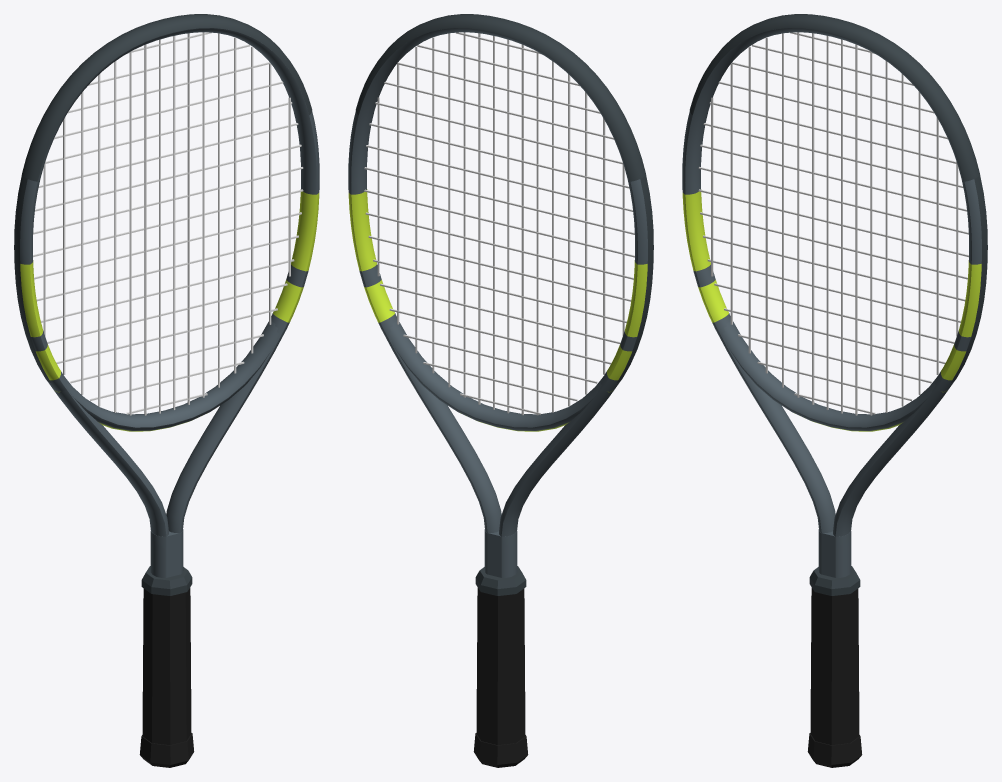
Rendered from babolat-carlitos-junior-25.glb.
3 views of the same model, side by side, from view 1: azimuth 30°, elevation 25°; view 2: azimuth 150°, elevation 25°; view 3: azimuth 330°, elevation 25° (orthographic).
Parts seen in each view (by area): view 1: frame, strings_mains, strings_crosses, grip, bumper, butt_cap, grommets, collar; view 2: frame, strings_mains, strings_crosses, grip, bumper, butt_cap, grommets, collar; view 3: frame, strings_mains, strings_crosses, grip, bumper, butt_cap, grommets, collar.
Part boxes in pixels (left/top/right/bottom): frame: left=20, top=28, right=319, bottom=577; strings_mains: left=43, top=32, right=290, bottom=415; strings_crosses: left=33, top=32, right=303, bottom=414; grip: left=142, top=587, right=191, bottom=744; bumper: left=22, top=14, right=312, bottom=181; butt_cap: left=139, top=733, right=194, bottom=767; grommets: left=14, top=175, right=50, bottom=382; collar: left=141, top=566, right=192, bottom=595; frame: left=348, top=28, right=647, bottom=577; strings_mains: left=377, top=32, right=624, bottom=415; strings_crosses: left=364, top=32, right=634, bottom=414; grip: left=476, top=587, right=525, bottom=744; bumper: left=355, top=14, right=645, bottom=181; butt_cap: left=473, top=733, right=528, bottom=767; grommets: left=617, top=175, right=653, bottom=382; collar: left=475, top=566, right=526, bottom=595; frame: left=682, top=28, right=981, bottom=577; strings_mains: left=711, top=32, right=958, bottom=415; strings_crosses: left=698, top=32, right=968, bottom=414; grip: left=810, top=587, right=859, bottom=744; bumper: left=689, top=14, right=979, bottom=181; butt_cap: left=807, top=733, right=862, bottom=767; grommets: left=951, top=175, right=987, bottom=382; collar: left=809, top=566, right=860, bottom=595.
Size of the model in its own units: 0.2717 by 0.6353 by 0.0396.
